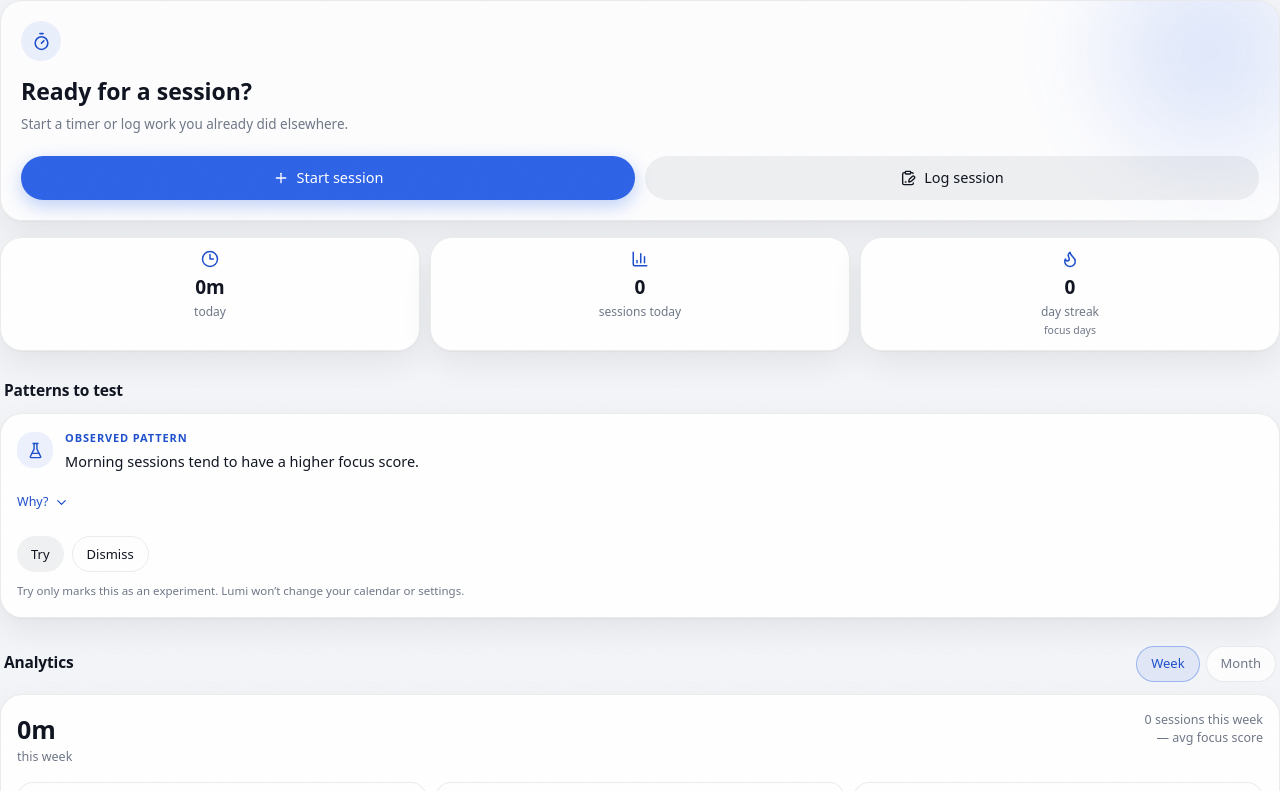
FocusPage › confirms an insight experiment without changing schedule or settings
Expected: the text "won’t change your calendar or settings" is shown, [17, 583, 464, 598]
Click the button "Try" at (40, 554), box [17, 536, 64, 572]
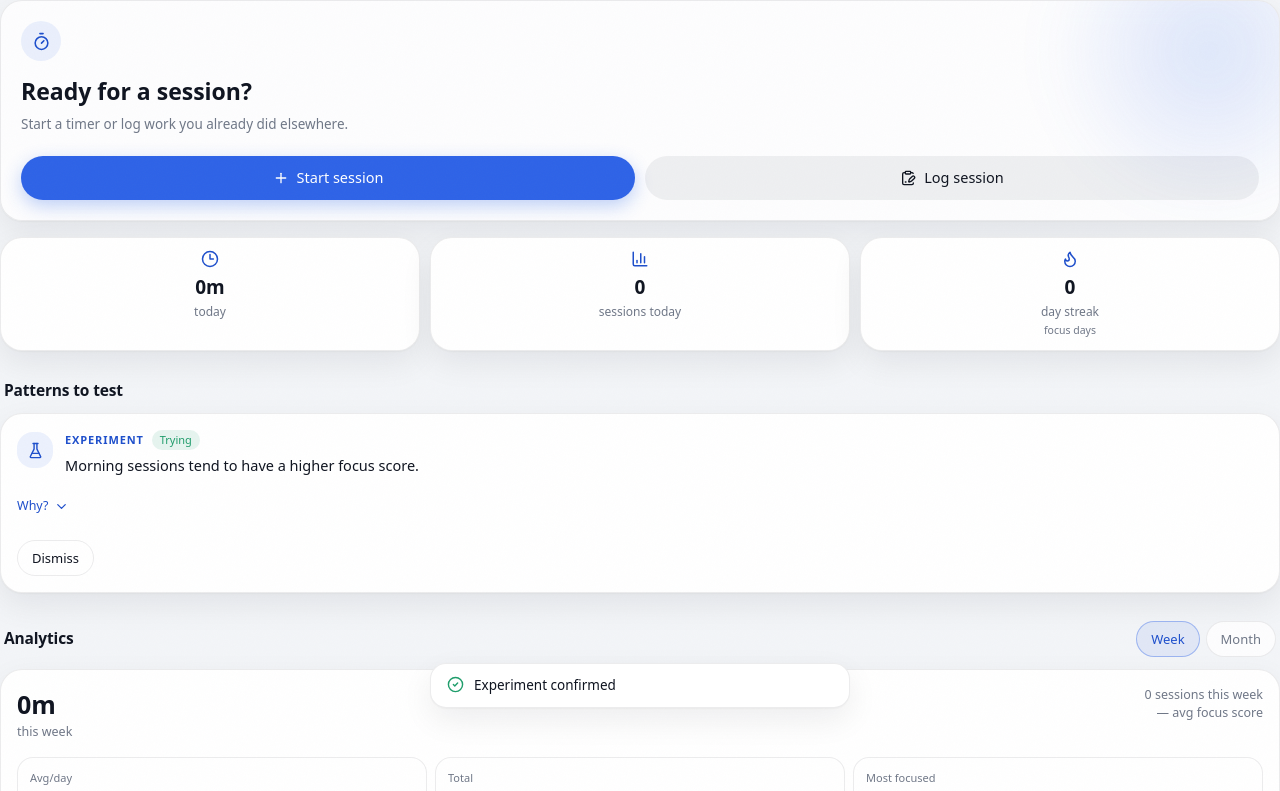
Expected: the text "Trying" is shown, [152, 430, 200, 450]
